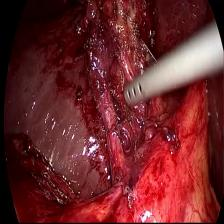Irrigator: (120, 64, 158, 111)
